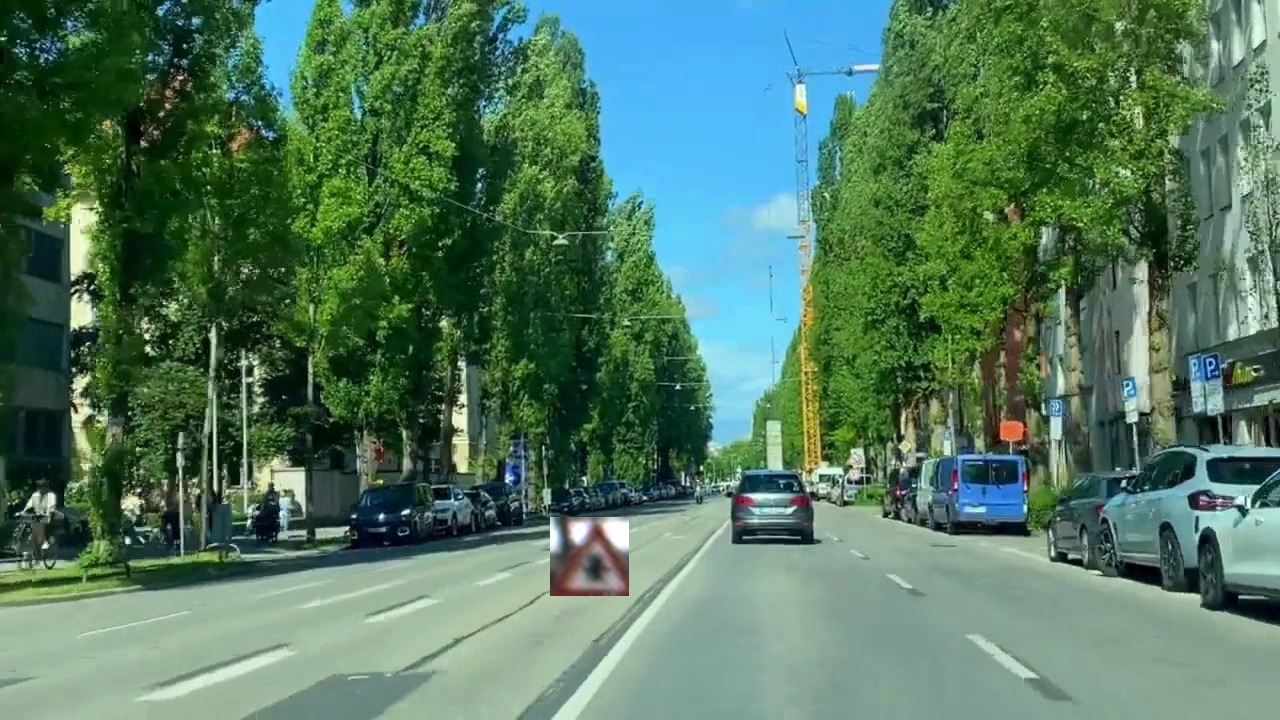Right-of-way: (550, 517, 629, 596)
